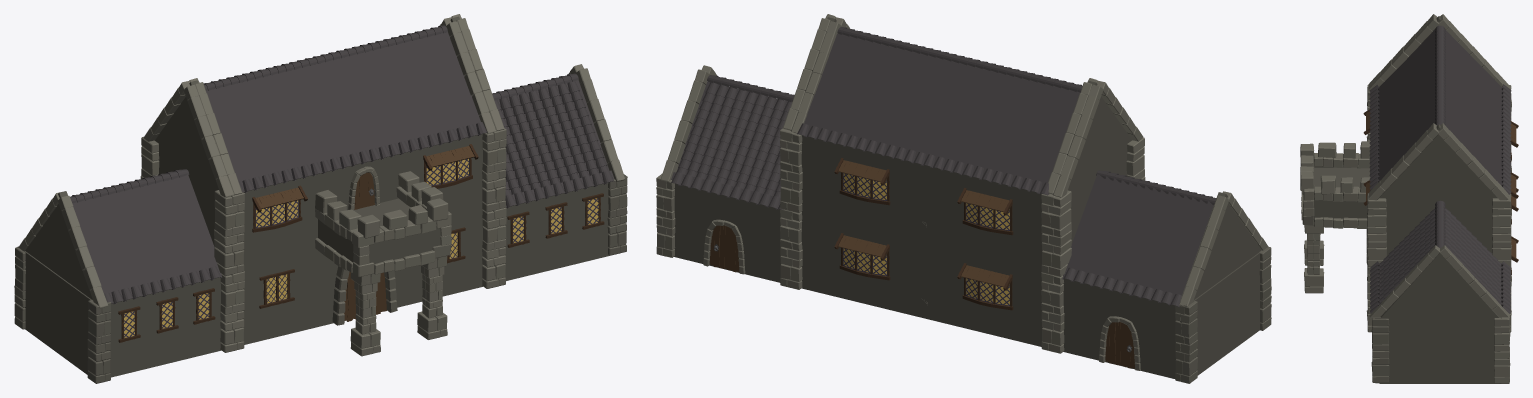
The model's file is brick wall bake test (2).fbx.
3 views of the same model, side by side, from view 1: azimuth 30°, elevation 25°; view 2: azimuth 150°, elevation 25°; view 3: azimuth 270°, elevation 25° (orthographic). The views are drawn at different scales.
Visible parts, largest first — view 1: Plane, Cube.006, Крыша лево, Circle.001, Cube.017, Cube.004, Cube.018, Cube.178, Circle.033, Plane.003, Cube.183, Cube.040 (+31 smaller); view 2: Cube.005, Plane, Крыша лево, Circle.001, Cube.015, Cube.007, Cube.018, Cube.178, Circle.060, Cube.040, Cube.038, Cube.183 (+24 smaller); view 3: Plane, Cube.008, Circle.001, Cube.033, Cube.041, Cube.022, Cube.183, Cube.178, Cube.181, Plane.003, Cube.165, Cube.171 (+15 smaller).
Part boxes in pixels (x1=…): Plane: x1=206, y1=32, x2=480, y2=181; Cube.006: x1=243, y1=134, x2=483, y2=344; Крыша лево: x1=72, y1=174, x2=217, y2=293; Circle.001: x1=494, y1=80, x2=609, y2=195; Cube.017: x1=110, y1=277, x2=221, y2=377; Cube.004: x1=505, y1=183, x2=609, y2=280; Cube.018: x1=18, y1=246, x2=91, y2=374; Cube.178: x1=143, y1=78, x2=242, y2=197; Circle.033: x1=238, y1=124, x2=480, y2=192; Plane.003: x1=318, y1=198, x2=440, y2=263; Cube.183: x1=439, y1=14, x2=504, y2=133; Cube.040: x1=25, y1=191, x2=92, y2=299; Cube.005: x1=801, y1=135, x2=1042, y2=346; Plane: x1=804, y1=34, x2=1079, y2=182; Крыша лево: x1=1067, y1=174, x2=1213, y2=295; Circle.001: x1=676, y1=81, x2=792, y2=197; Cube.015: x1=1063, y1=278, x2=1175, y2=378; Cube.007: x1=674, y1=183, x2=780, y2=282; Cube.018: x1=1180, y1=252, x2=1260, y2=375; Cube.178: x1=1048, y1=78, x2=1143, y2=197; Circle.060: x1=797, y1=123, x2=1049, y2=195; Cube.040: x1=1180, y1=192, x2=1261, y2=305; Cube.038: x1=1068, y1=80, x2=1131, y2=190; Cube.183: x1=783, y1=14, x2=850, y2=133; Plane: x1=1378, y1=29, x2=1502, y2=184; Cube.008: x1=1372, y1=317, x2=1501, y2=383; Circle.001: x1=1379, y1=208, x2=1501, y2=304; Cube.033: x1=1379, y1=124, x2=1497, y2=202; Cube.041: x1=1381, y1=252, x2=1499, y2=317; Cube.022: x1=1386, y1=202, x2=1492, y2=255; Cube.183: x1=1368, y1=123, x2=1508, y2=200; Cube.178: x1=1368, y1=14, x2=1508, y2=91; Cube.181: x1=1369, y1=245, x2=1509, y2=319; Plane.003: x1=1313, y1=158, x2=1369, y2=221; Cube.165: x1=1366, y1=193, x2=1386, y2=266; Cube.171: x1=1491, y1=193, x2=1511, y2=266.
Bounding box in the file's own units: 6659 × 2870 × 2775.
